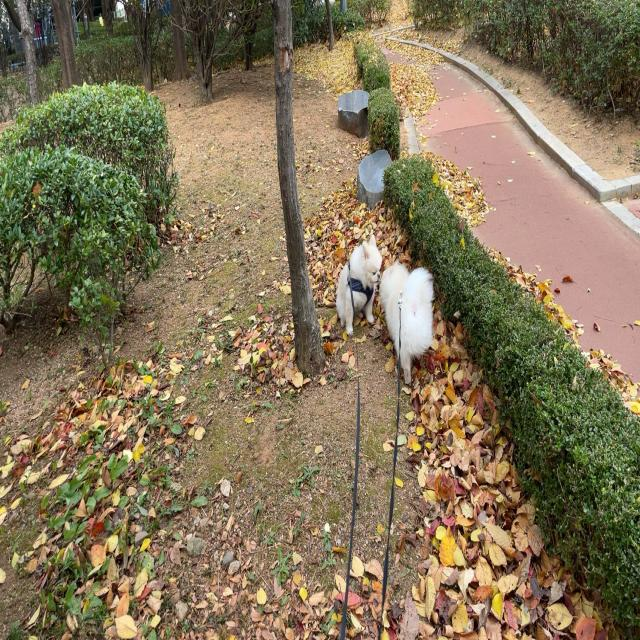Dog: (380, 263, 434, 385), (336, 233, 382, 335)
